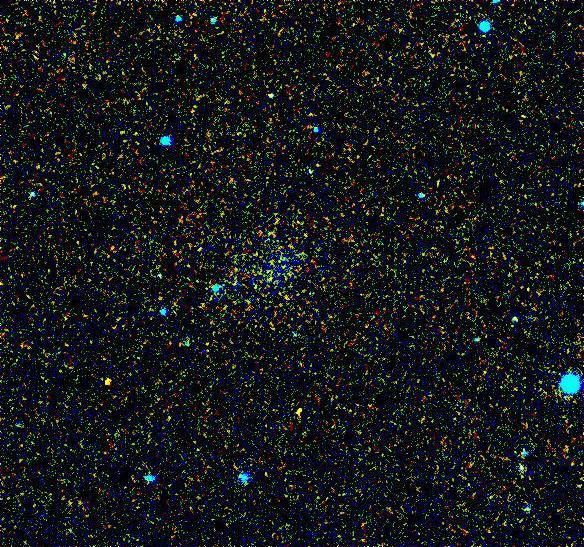star: (93, 367, 123, 397)
